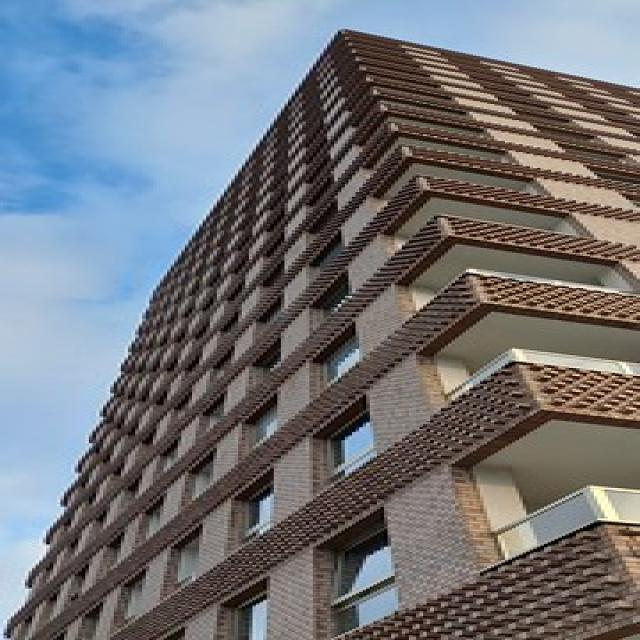Normal_building: (14, 1, 640, 638)
